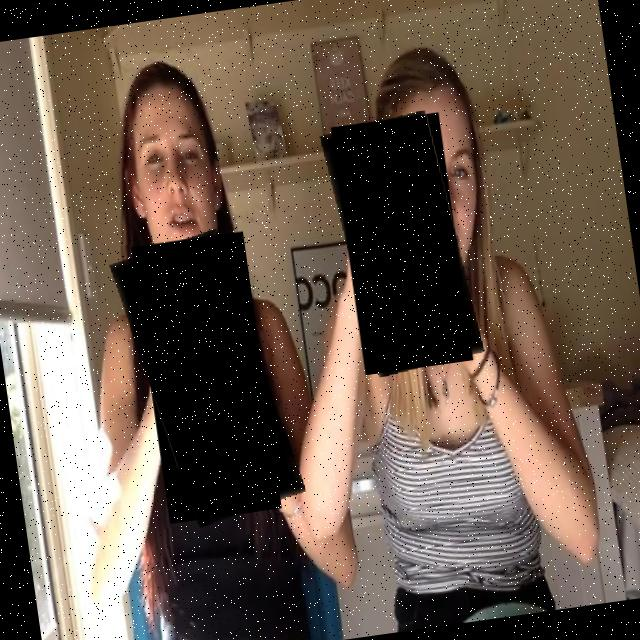Q: (120, 227, 296, 529), (325, 110, 480, 378)
